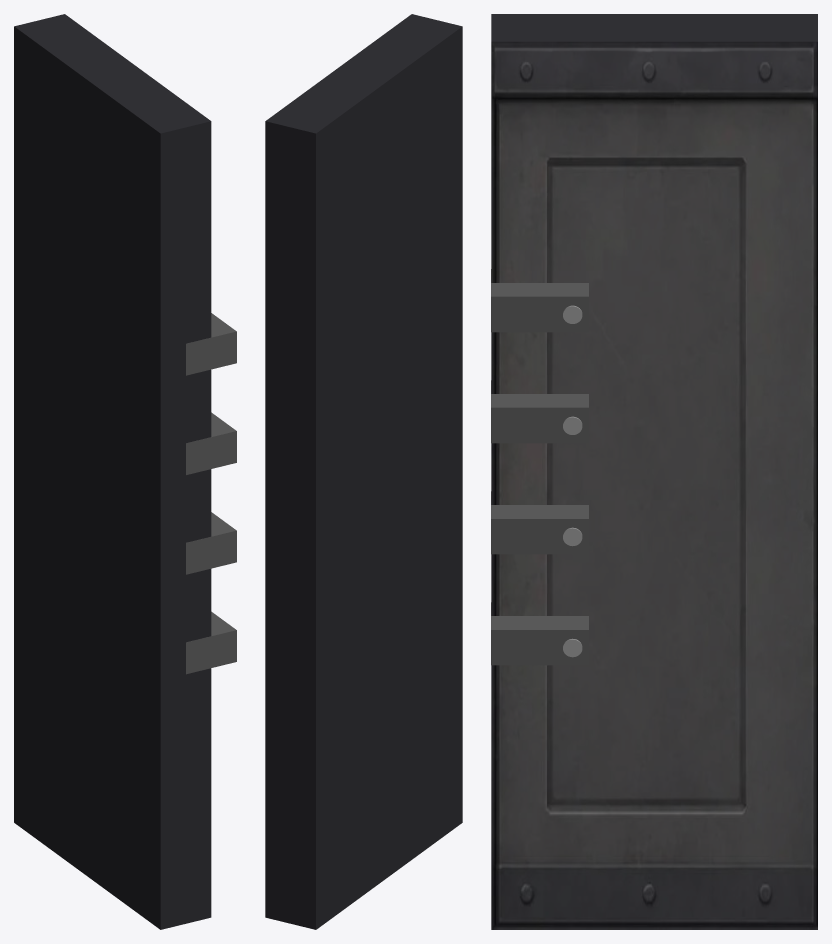
The model's file is porta_folha_dir.fbx.
3 renders of one model, left to right at view 1: azimuth 30°, elevation 25°; view 2: azimuth 150°, elevation 25°; view 3: azimuth 270°, elevation 25°, orthographic. The views are drawn at different scales.
Visible parts, largest first — view 1: Cube.000, Cube.008, Cube.005, Cube.010, Cube.011; view 2: Cube.000; view 3: Cube.000, Cube.005, Cube.008, Cube.011, Cube.010.
Boxes of the visible parts, x1=… form: Cube.000: x1=14, y1=14, x2=211, y2=929; Cube.008: x1=186, y1=512, x2=236, y2=574; Cube.005: x1=186, y1=412, x2=236, y2=474; Cube.010: x1=186, y1=313, x2=236, y2=375; Cube.011: x1=186, y1=611, x2=236, y2=674; Cube.000: x1=265, y1=14, x2=462, y2=929; Cube.000: x1=491, y1=14, x2=817, y2=929; Cube.005: x1=491, y1=380, x2=588, y2=443; Cube.008: x1=491, y1=491, x2=588, y2=554; Cube.011: x1=491, y1=602, x2=588, y2=665; Cube.010: x1=491, y1=269, x2=588, y2=332.
Size of the model in its own units: 0.61 by 6 by 2.
